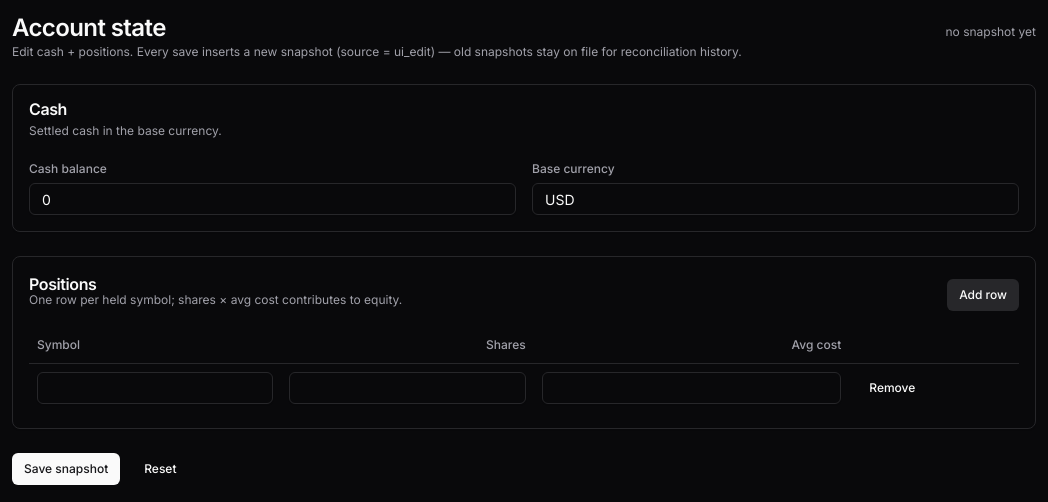
Test: AccountEditPage (B023 F002) › PUT round-trip: fills form, submits, surfaces success toast + saved state
Expected: the text with test id "account-latest-state" shows "no snapshot", [946, 24, 1036, 39]
Replace the text in the field with test id "account-cash-input" with "60000" at [272, 199], box [29, 183, 516, 215]
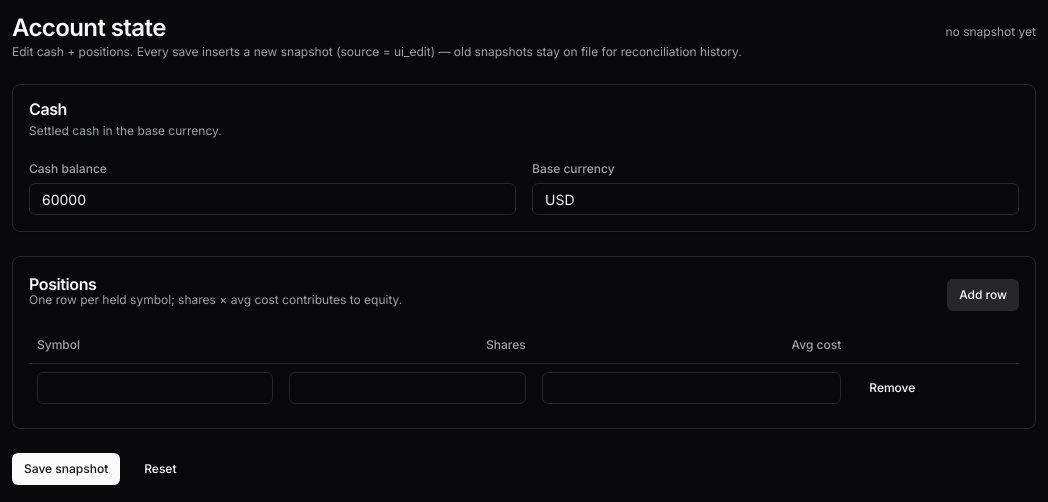
Type "B013" into the field with test id "account-symbol-0" at [155, 388], box [37, 372, 273, 404]
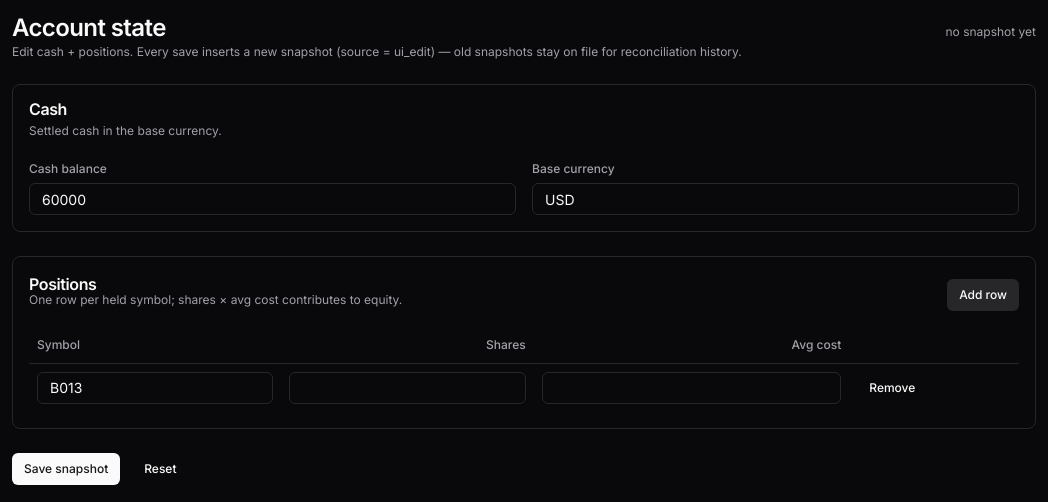
Type "20" into the field with test id "account-shares-0" at [408, 388], box [289, 372, 526, 404]
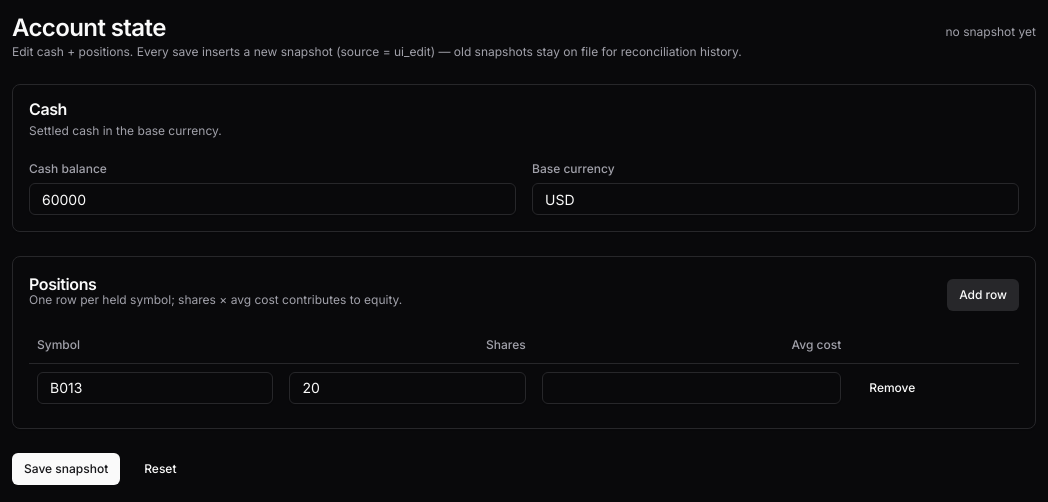
Type "500" into the field with test id "account-avgcost-0" at [692, 388], box [542, 372, 841, 404]
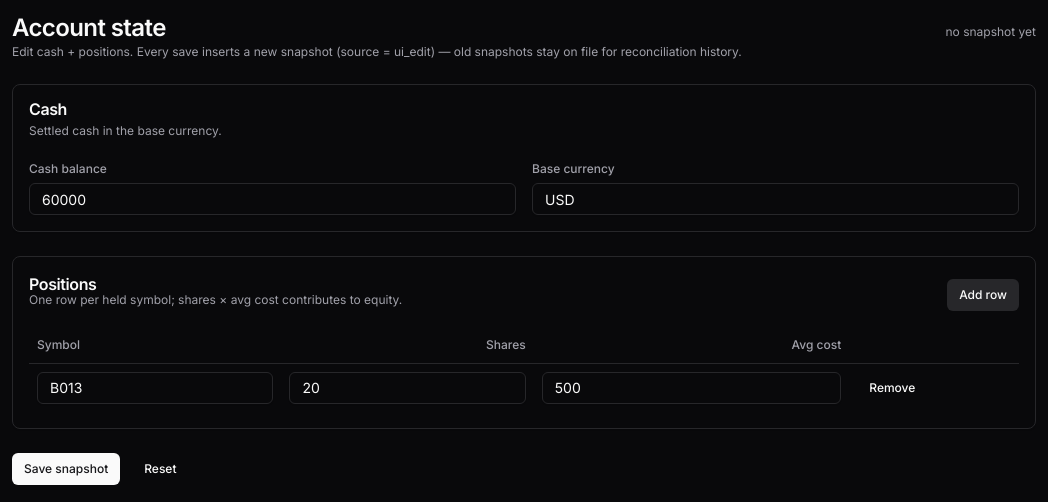
Submit the form with test id "account-edit-form"
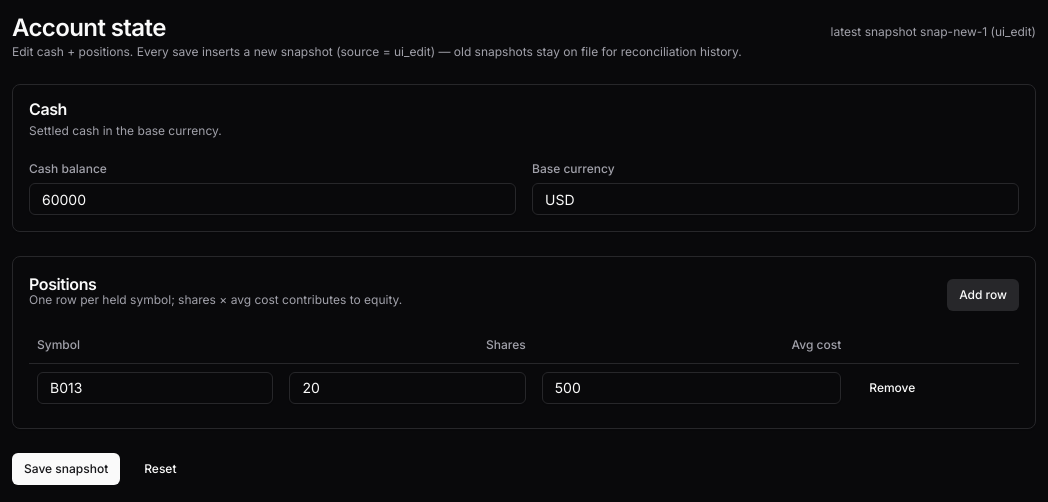
Now the text with test id "account-latest-state" shows "snap-new-1", box [831, 24, 1036, 39]
